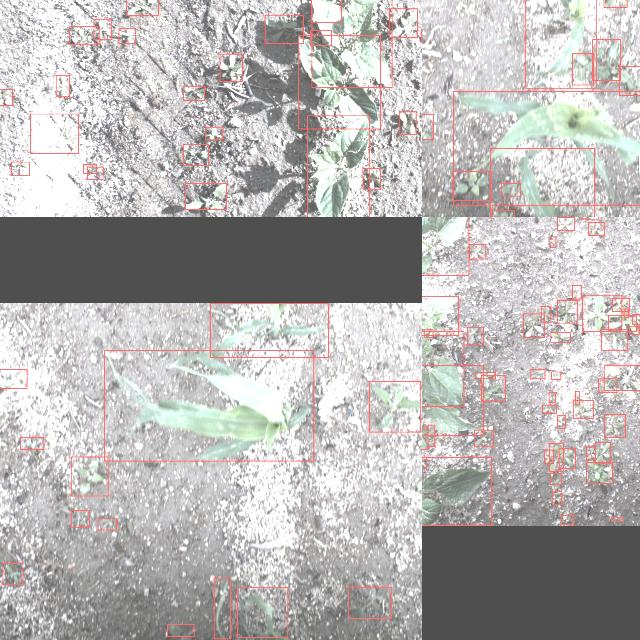crop: (104, 350, 314, 460), (453, 91, 640, 205), (298, 35, 380, 129), (490, 148, 594, 217), (312, 0, 392, 87), (210, 302, 328, 358), (308, 115, 370, 217), (524, 0, 595, 87), (422, 457, 491, 525), (422, 364, 483, 435), (422, 330, 464, 405), (422, 217, 468, 274), (236, 587, 288, 637), (422, 295, 458, 335), (214, 578, 230, 638)
weed: (369, 381, 421, 432), (30, 113, 78, 153), (70, 456, 108, 496), (582, 295, 622, 331), (348, 586, 392, 618), (592, 39, 620, 80), (265, 14, 303, 44), (186, 183, 227, 209), (453, 172, 491, 200), (604, 364, 640, 389), (389, 8, 417, 36), (572, 54, 594, 85), (311, 0, 341, 21), (481, 375, 505, 401), (220, 53, 242, 81), (619, 65, 640, 94), (586, 461, 612, 483), (602, 328, 628, 349), (70, 25, 100, 43), (0, 368, 26, 387), (604, 414, 626, 436), (184, 144, 208, 164), (524, 313, 544, 337), (557, 299, 577, 323), (126, 0, 158, 14), (608, 315, 636, 331), (3, 564, 23, 584), (549, 443, 563, 471), (400, 110, 416, 134), (363, 168, 381, 188), (573, 400, 593, 418), (94, 18, 110, 40), (474, 429, 494, 446), (559, 448, 575, 468), (168, 624, 194, 636), (56, 74, 70, 96), (310, 30, 332, 44), (71, 509, 89, 526), (183, 86, 204, 100), (596, 442, 610, 463), (467, 327, 483, 345), (21, 436, 44, 448), (422, 113, 433, 138), (501, 182, 521, 195), (11, 161, 29, 175), (205, 126, 223, 140), (599, 378, 617, 392), (612, 297, 630, 311), (119, 28, 135, 42), (470, 244, 486, 258), (98, 517, 116, 529), (87, 167, 103, 180), (557, 217, 574, 229), (550, 332, 570, 342), (0, 89, 12, 105), (588, 222, 604, 234), (491, 209, 514, 217), (541, 306, 551, 322), (83, 163, 97, 173), (531, 368, 545, 378), (560, 515, 574, 525), (544, 449, 554, 463), (572, 284, 582, 298), (603, 0, 626, 6), (428, 424, 434, 446), (586, 446, 596, 459), (552, 492, 562, 504), (475, 372, 495, 378), (550, 474, 562, 484), (422, 426, 427, 449), (557, 414, 565, 428), (542, 405, 556, 413), (551, 371, 561, 379), (629, 326, 639, 334), (632, 313, 640, 323), (611, 516, 623, 522), (550, 236, 556, 247), (425, 329, 433, 337), (549, 392, 555, 402), (576, 391, 580, 404), (422, 457, 426, 468), (624, 308, 628, 316)
